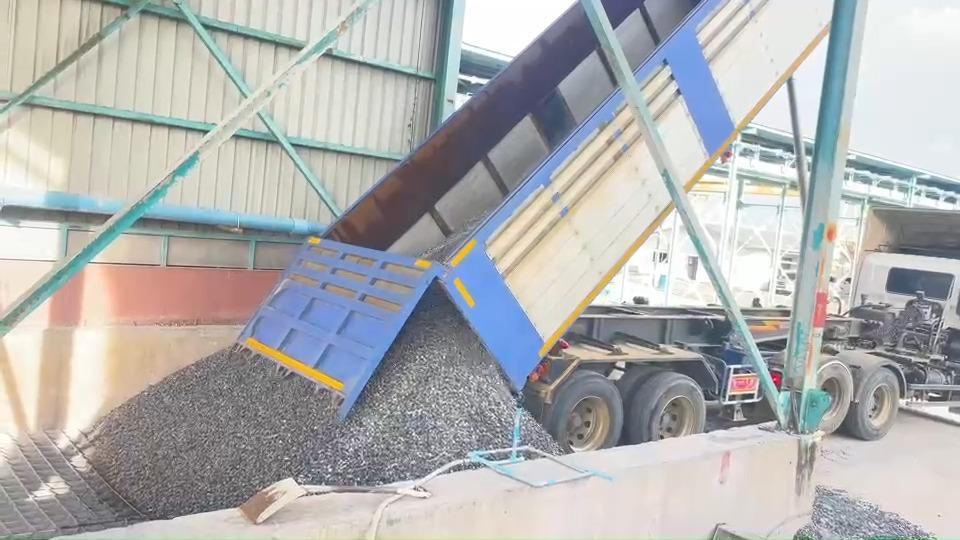gravel: (85, 286, 515, 517), (796, 486, 934, 538), (523, 413, 559, 453)
